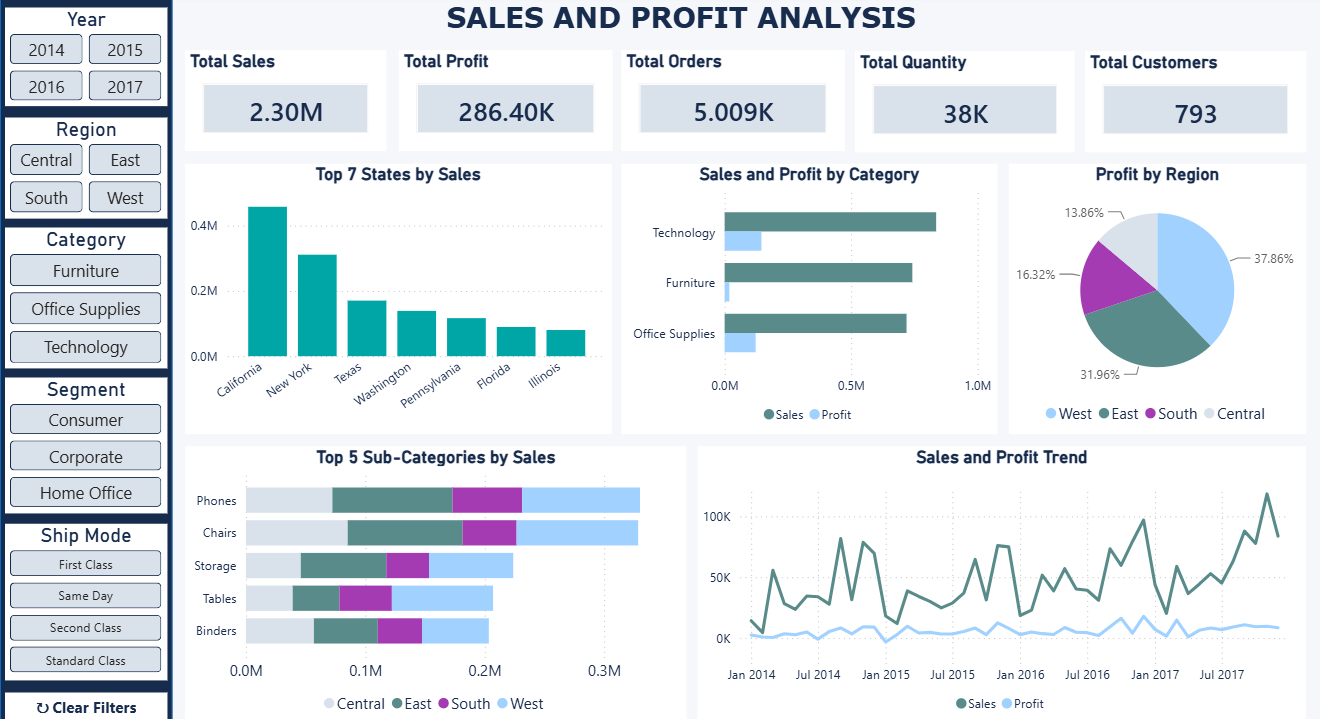

The page's visual inventory and layout, read from the dashboard file:
{"tool":"powerbi","page":{"name":"Page 2","canvas":[1280,720],"ordinal":1},"visuals":[{"type":"textbox","box":[430.9,0,563.4,53.1],"z":0},{"type":"shape","box":[4.8,0,166.5,703.4],"z":1000},{"type":"advancedSlicerVisual","fields":{"Values":["Orders.Order Date.Variation.Date Hierarchy.Year"]},"box":[9.7,12.1,156.8,95.3],"z":2000},{"type":"advancedSlicerVisual","fields":{"Values":["Orders.Region"]},"box":[9.7,118.2,156.8,97.7],"z":3000},{"type":"advancedSlicerVisual","fields":{"Values":["Orders.Category"]},"box":[9.7,224.4,156.8,136.3],"z":4000},{"type":"advancedSlicerVisual","fields":{"Values":["Orders.Segment"]},"box":[9.7,369.2,156.8,131.5],"z":5000},{"type":"advancedSlicerVisual","fields":{"Values":["Orders.Ship Mode"]},"box":[9.7,510.3,156.8,150.8],"z":6000},{"type":"cardVisual","title":"Total Sales","fields":{"Data":["Sum(Orders.Sales)"]},"box":[183.4,53.1,194.2,97.7],"z":7000},{"type":"cardVisual","title":"Total Profit","fields":{"Data":["Sum(Orders.Profit)"]},"box":[389.7,53.1,206.3,97.7],"z":8000},{"type":"cardVisual","title":"Total Orders","fields":{"Data":["Count(Orders.Order ID)"]},"box":[604.4,53.1,216,97.7],"z":9000},{"type":"cardVisual","title":"Total Quantity","fields":{"Data":["Sum(Orders.Quantity)"]},"box":[830,54.3,212.3,97.7],"z":10000},{"type":"cardVisual","title":"Total Customers","fields":{"Data":["Count(Orders.Customer ID)"]},"box":[1052,54.3,213.5,97.7],"z":11000},{"type":"lineChart","title":"Sales and Profit Trend","fields":{"Category":["Orders.Order Date.Variation.Date Hierarchy.Year","Orders.Order Date.Variation.Date Hierarchy.Month"],"Y":["Sum(Orders.Sales)","Sum(Orders.Profit)"]},"box":[678,435.5,587.5,266.6],"z":12000},{"type":"clusteredBarChart","title":"Sales and Profit by Category","fields":{"Category":["Orders.Category"],"Y":["Sum(Orders.Sales)","Sum(Orders.Profit)"]},"box":[604.4,162.9,363.1,260.6],"z":13000},{"type":"pieChart","title":"Profit by Region","fields":{"Y":["Sum(Orders.Profit)"],"Category":["Orders.Region"]},"box":[978.4,162.9,287.1,260.6],"z":14000},{"type":"barChart","title":"Top 5 Sub-Categories by Sales","fields":{"Category":["Orders.Sub-Category"],"Y":["Sum(Orders.Sales)"],"Series":["Orders.Region"]},"box":[183.9,435,484.4,267.6],"z":15000},{"type":"columnChart","title":"Top 7 States by Sales","fields":{"Category":["Orders.State"],"Y":["Sum(Orders.Sales)"]},"box":[183.9,163.3,411.7,260.7],"z":16000},{"type":"actionButton","box":[9.7,673.2,156.8,29],"z":17000}]}

Visuals, with their boxes in screenshot pixels (x1, y1, x2, y2):
textbox: rect(421, 0, 975, 4)
shape: rect(1, 0, 165, 644)
advancedSlicerVisual - Orders.Order Date.Variation.Date Hierarchy.Year: rect(6, 0, 160, 58)
advancedSlicerVisual - Orders.Region: rect(6, 68, 160, 164)
advancedSlicerVisual - Orders.Category: rect(6, 173, 160, 307)
advancedSlicerVisual - Orders.Segment: rect(6, 315, 160, 445)
advancedSlicerVisual - Orders.Ship Mode: rect(6, 454, 160, 602)
"Total Sales" cardVisual: rect(177, 4, 368, 100)
"Total Profit" cardVisual: rect(380, 4, 583, 100)
"Total Orders" cardVisual: rect(591, 4, 804, 100)
"Total Quantity" cardVisual: rect(813, 5, 1022, 101)
"Total Customers" cardVisual: rect(1032, 5, 1242, 101)
"Sales and Profit Trend" lineChart: rect(664, 380, 1242, 643)
"Sales and Profit by Category" clusteredBarChart: rect(591, 112, 949, 369)
"Profit by Region" pieChart: rect(959, 112, 1242, 369)
"Top 5 Sub-Categories by Sales" barChart: rect(178, 380, 654, 643)
"Top 7 States by Sales" columnChart: rect(178, 113, 583, 369)
actionButton: rect(6, 614, 160, 643)
